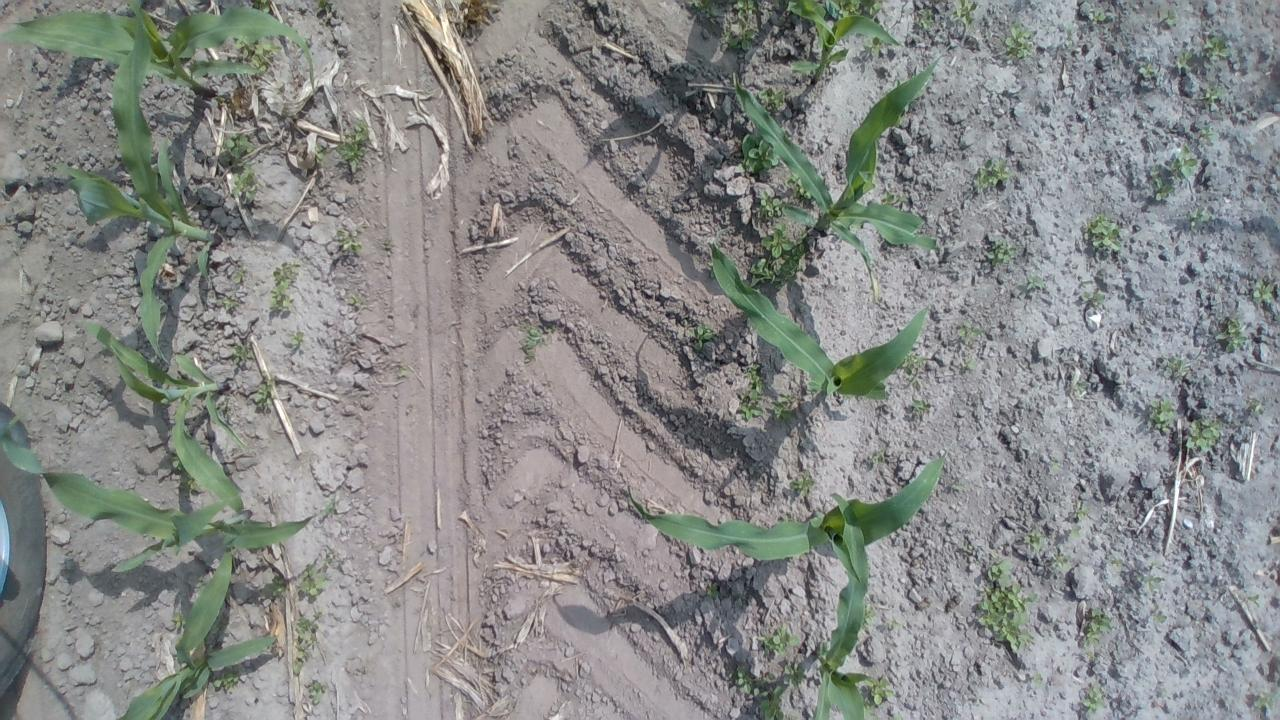Maize: (48, 0, 220, 366), (0, 407, 320, 573), (734, 54, 936, 304), (709, 226, 928, 400), (625, 452, 946, 560), (72, 318, 246, 516), (0, 0, 316, 98), (107, 548, 276, 720), (805, 492, 872, 720), (784, 0, 904, 84)
Weeds: (976, 550, 1038, 652), (750, 223, 806, 289), (230, 30, 281, 74), (737, 130, 780, 174), (268, 261, 300, 310), (338, 122, 368, 168), (973, 158, 1011, 194), (1084, 214, 1122, 250), (1186, 417, 1222, 454), (1082, 607, 1112, 647), (758, 626, 799, 655), (230, 162, 258, 202), (1216, 315, 1246, 351), (1005, 24, 1034, 60), (1148, 397, 1176, 434), (172, 454, 200, 490), (830, 0, 882, 19), (221, 132, 255, 161), (1170, 146, 1198, 180), (1150, 166, 1175, 202), (865, 676, 895, 706), (300, 564, 328, 596), (724, 22, 756, 50), (250, 371, 274, 408), (760, 686, 785, 720), (521, 322, 543, 360), (986, 240, 1018, 266), (738, 389, 764, 420), (771, 394, 796, 424), (213, 667, 240, 694), (786, 172, 812, 200), (950, 0, 976, 28), (758, 191, 783, 220), (294, 616, 318, 646), (1082, 685, 1104, 717), (686, 323, 712, 350), (691, 0, 720, 24), (758, 88, 786, 112), (744, 364, 766, 394), (782, 662, 807, 688), (958, 321, 984, 345), (1162, 354, 1188, 378), (337, 228, 362, 252), (789, 471, 814, 495), (733, 665, 752, 694), (899, 352, 924, 374), (1204, 36, 1228, 58), (1252, 280, 1275, 302), (232, 343, 256, 364), (292, 647, 310, 674), (753, 674, 775, 696), (1024, 528, 1046, 550), (306, 680, 326, 704), (732, 0, 757, 19), (1136, 574, 1162, 592), (880, 190, 909, 206), (1204, 86, 1226, 105), (210, 616, 230, 636), (265, 576, 285, 596), (864, 36, 884, 56), (860, 603, 874, 631), (916, 10, 934, 30), (1052, 554, 1072, 572), (1254, 692, 1276, 708), (1190, 211, 1210, 228), (1081, 292, 1105, 306), (170, 612, 188, 628), (288, 331, 306, 347), (1176, 52, 1192, 70), (1138, 63, 1154, 80), (1200, 127, 1218, 142), (1088, 10, 1108, 23), (911, 400, 931, 413), (1026, 276, 1044, 290), (315, 144, 326, 166), (320, 501, 336, 516), (1160, 11, 1176, 26), (314, 0, 332, 13), (252, 0, 270, 13), (193, 574, 206, 592), (1246, 592, 1260, 608), (233, 267, 246, 284), (222, 298, 238, 311), (347, 292, 361, 306), (707, 582, 719, 598), (1072, 508, 1088, 520), (962, 358, 976, 370), (215, 401, 227, 415), (906, 376, 920, 388), (1111, 558, 1123, 572), (1076, 380, 1087, 395), (707, 260, 716, 278), (864, 700, 874, 715), (397, 364, 409, 376), (1252, 402, 1264, 413), (870, 454, 884, 463), (1034, 674, 1043, 688), (1070, 526, 1080, 538), (888, 619, 901, 628), (320, 558, 330, 568), (777, 516, 791, 523), (950, 484, 964, 491), (1050, 458, 1058, 470), (1154, 614, 1166, 622), (963, 544, 973, 553), (784, 714, 798, 720), (1064, 24, 1074, 32), (896, 117, 904, 126), (217, 96, 226, 102), (870, 715, 880, 720), (894, 80, 900, 88), (843, 394, 851, 400), (904, 103, 909, 112), (892, 716, 903, 720), (548, 325, 554, 331)
